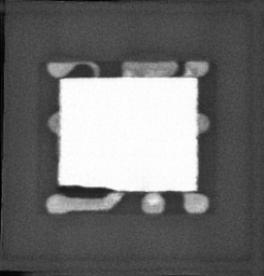DIE_BROKEN: (56, 183, 117, 193)
